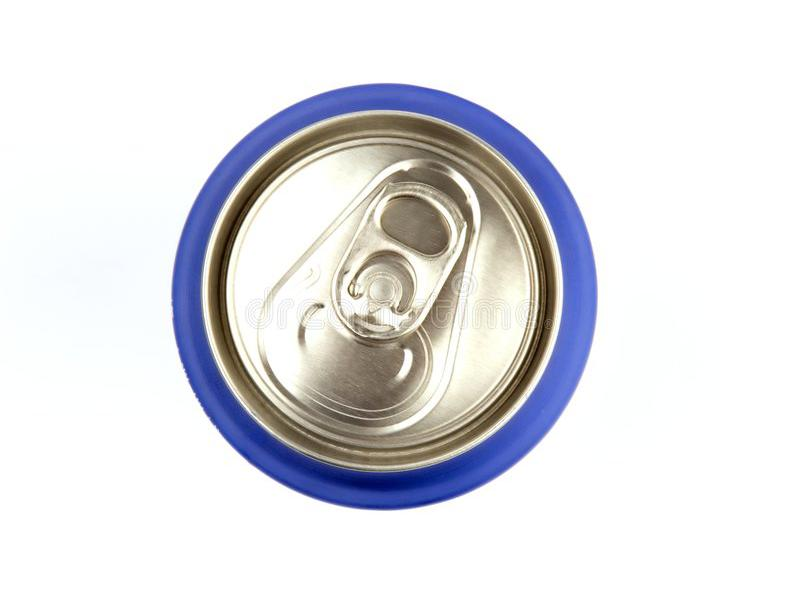can: (160, 75, 606, 515)
